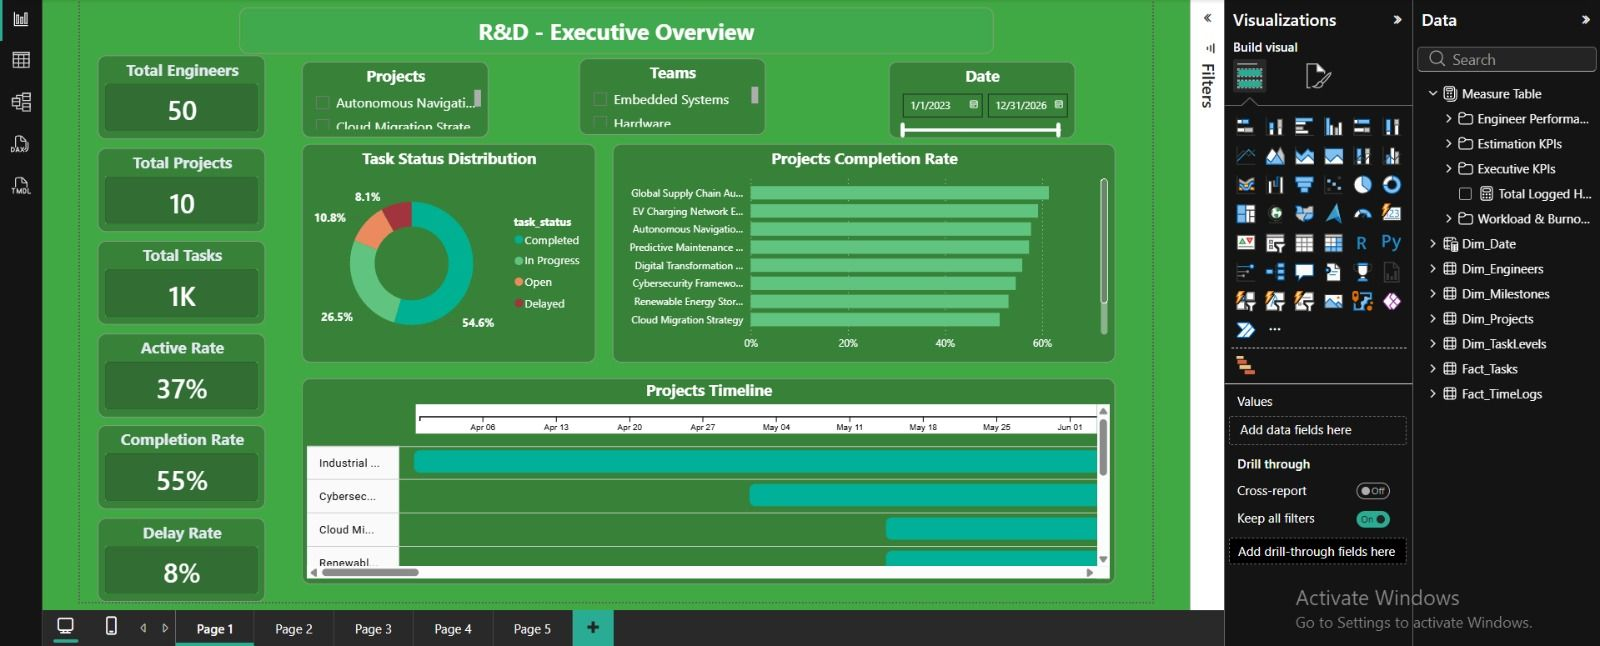

Layout of this report page (visuals, bound fields, positions):
{"tool":"powerbi","page":{"name":"Page 1","canvas":[1280,720],"ordinal":0},"visuals":[{"type":"shape","box":[190.6,10,900,55],"z":0},{"type":"slicer","title":"Projects","fields":{"Values":["Projects.project_name"]},"box":[264.8,74.1,222,90],"z":1000},{"type":"slicer","title":"Teams","fields":{"Values":["Engineers.team"]},"box":[595.9,70.9,222,90.8],"z":2000},{"type":"slicer","title":"Date ","fields":{"Values":["Dim_Date.Date"]},"box":[965.3,74.6,222,90.8],"z":3000},{"type":"cardVisual","title":"Total Projects","fields":{"Data":["Count(Projects.project_id)"]},"box":[20.6,177.8,200.3,100.2],"z":4000},{"type":"cardVisual","title":"Completion Rate","fields":{"Data":["Tasks.Completion Rate %"]},"box":[20.6,509.3,200.3,100.2],"z":5000},{"type":"cardVisual","title":"Delay Rate","fields":{"Data":["Tasks.Delay Rate"]},"box":[20.6,619.8,200,100.2],"z":6000},{"type":"cardVisual","title":"Active Rate","fields":{"Data":["Tasks.Active Rate"]},"box":[20.6,398.8,200.3,100.2],"z":7000},{"type":"cardVisual","title":"Total Tasks","fields":{"Data":["Measure Table.Total Tasks"]},"box":[20.6,288.3,200.3,100.2],"z":8000},{"type":"clusteredBarChart","title":"Projects Completion Rate","fields":{"Category":["Projects.project_name"],"Y":["Tasks.Completion Rate %"]},"box":[635.3,172.9,600,260.7],"z":9000},{"type":"donutChart","title":"Task Status Distribution","fields":{"Category":["Tasks.task_status"],"Y":["CountNonNull(Tasks.task_id)"]},"box":[264.8,172.9,350,260.7],"z":10000},{"type":"Gantt1448688115699","title":"Projects Timeline","fields":{"StartDate":["Projects.start_date"],"EndDate":["Min(Projects.target_deadline)"],"Completion":["Tasks.Completion Rate %"],"Task":["Projects.project_name"]},"box":[264.8,452.8,970.2,245.6],"z":11000},{"type":"cardVisual","title":"Total Engineers","fields":{"Data":["Engineers.Total Engineers"]},"box":[20.6,67.2,200.3,100.2],"z":12000}]}

Visuals, with their boxes on the page's 1280x720 design canvas (x1, y1, x2, y2). These are canvas units, not pixel positions in the 1600x646 screenshot, which may show the page scaled, cropped or inside an application window:
shape: select_region(191, 10, 1091, 65)
"Projects" slicer: select_region(265, 74, 487, 164)
"Teams" slicer: select_region(596, 71, 818, 162)
"Date " slicer: select_region(965, 75, 1187, 165)
"Total Projects" cardVisual: select_region(21, 178, 221, 278)
"Completion Rate" cardVisual: select_region(21, 509, 221, 610)
"Delay Rate" cardVisual: select_region(21, 620, 221, 720)
"Active Rate" cardVisual: select_region(21, 399, 221, 499)
"Total Tasks" cardVisual: select_region(21, 288, 221, 388)
"Projects Completion Rate" clusteredBarChart: select_region(635, 173, 1235, 434)
"Task Status Distribution" donutChart: select_region(265, 173, 615, 434)
"Projects Timeline" Gantt1448688115699: select_region(265, 453, 1235, 698)
"Total Engineers" cardVisual: select_region(21, 67, 221, 167)
